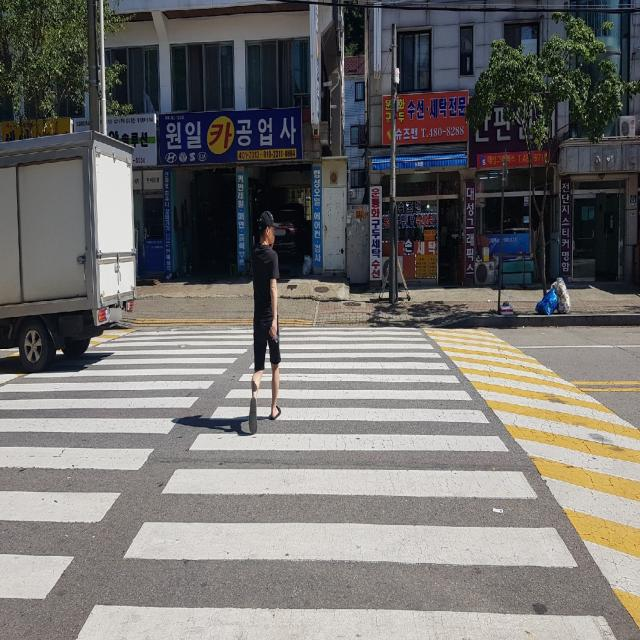횡단보도: (0, 326, 618, 640)
